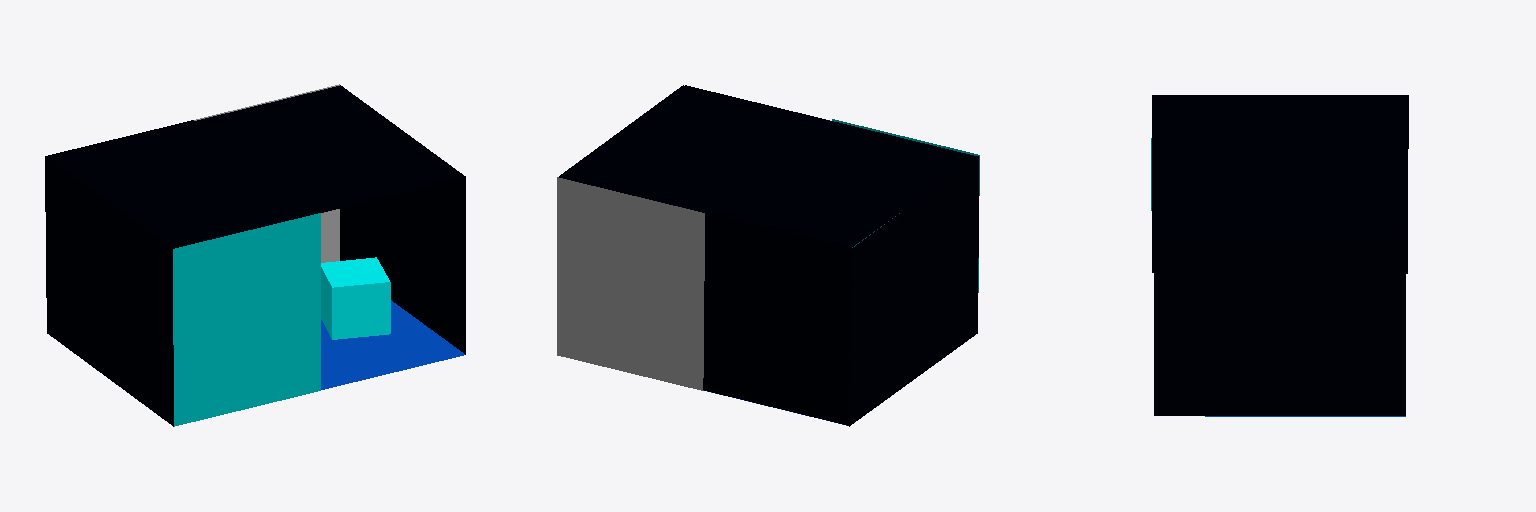
Rendered from IceScene.obj.
3 renders of one model, left to right at view 1: azimuth 30°, elevation 25°; view 2: azimuth 150°, elevation 25°; view 3: azimuth 270°, elevation 25°, orthographic.
Visible parts, largest first — view 1: ceiling_floor.001, GlassWall_back_wall.002, left_wall, right_wall, floor, short_box.001, MirrorWall_back_wall; view 2: ceiling_floor.001, MirrorWall_back_wall, back_wall_back_wall.001, left_wall; view 3: right_wall, ceiling_floor.001, left_wall.
Boxes of the visible parts, x1=… form: ceiling_floor.001: x1=49, y1=86, x2=464, y2=249; GlassWall_back_wall.002: x1=173, y1=213, x2=320, y2=426; left_wall: x1=45, y1=156, x2=173, y2=426; right_wall: x1=340, y1=85, x2=465, y2=354; floor: x1=321, y1=300, x2=464, y2=389; short_box.001: x1=321, y1=257, x2=390, y2=339; MirrorWall_back_wall: x1=194, y1=84, x2=339, y2=262; ceiling_floor.001: x1=559, y1=85, x2=976, y2=247; MirrorWall_back_wall: x1=557, y1=177, x2=704, y2=390; back_wall_back_wall.001: x1=703, y1=212, x2=851, y2=425; left_wall: x1=849, y1=156, x2=978, y2=426; right_wall: x1=1154, y1=238, x2=1405, y2=415; ceiling_floor.001: x1=1153, y1=96, x2=1405, y2=237; left_wall: x1=1152, y1=95, x2=1408, y2=273.
Bounding box in the file's own units: 9.52 × 5.55 × 7.18.